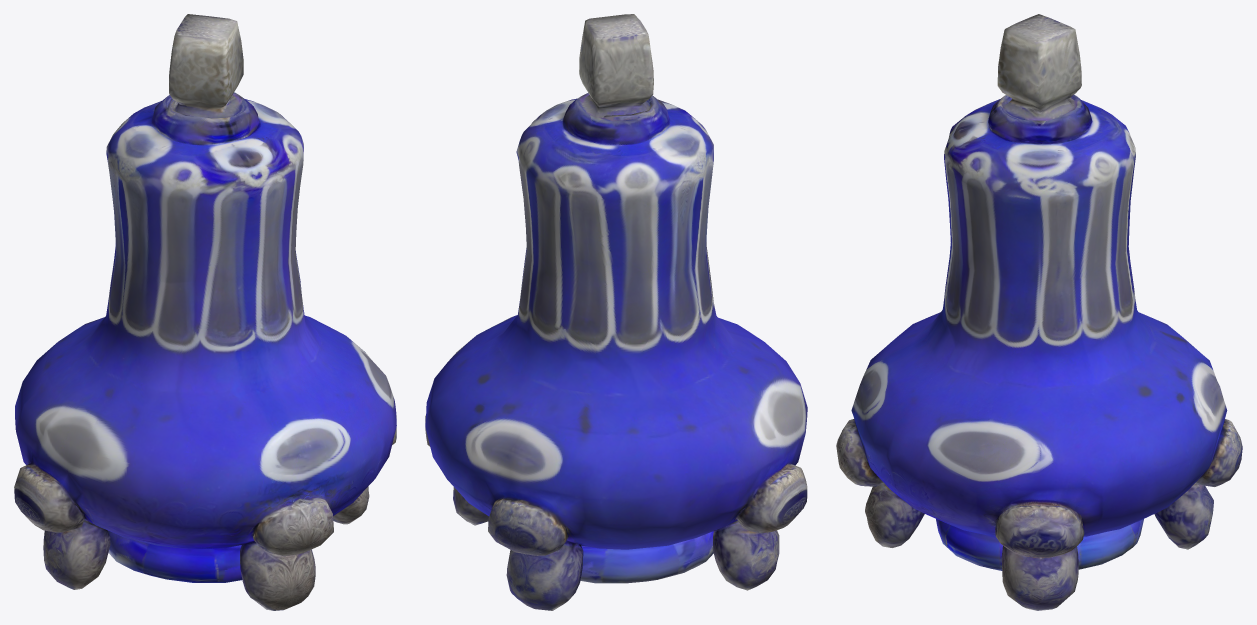
The picture shows the model from 3 angles, left to right: view 1: azimuth 30°, elevation 25°; view 2: azimuth 150°, elevation 25°; view 3: azimuth 270°, elevation 25°; orthographic projection. The views are drawn at different scales.
Size of the model in its own units: 1.45 by 2 by 1.43.
Materials: 1 (1 with a texture image).
